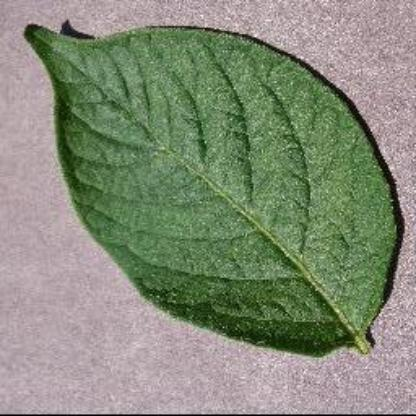Healthy-plant: (36, 14, 402, 388)
